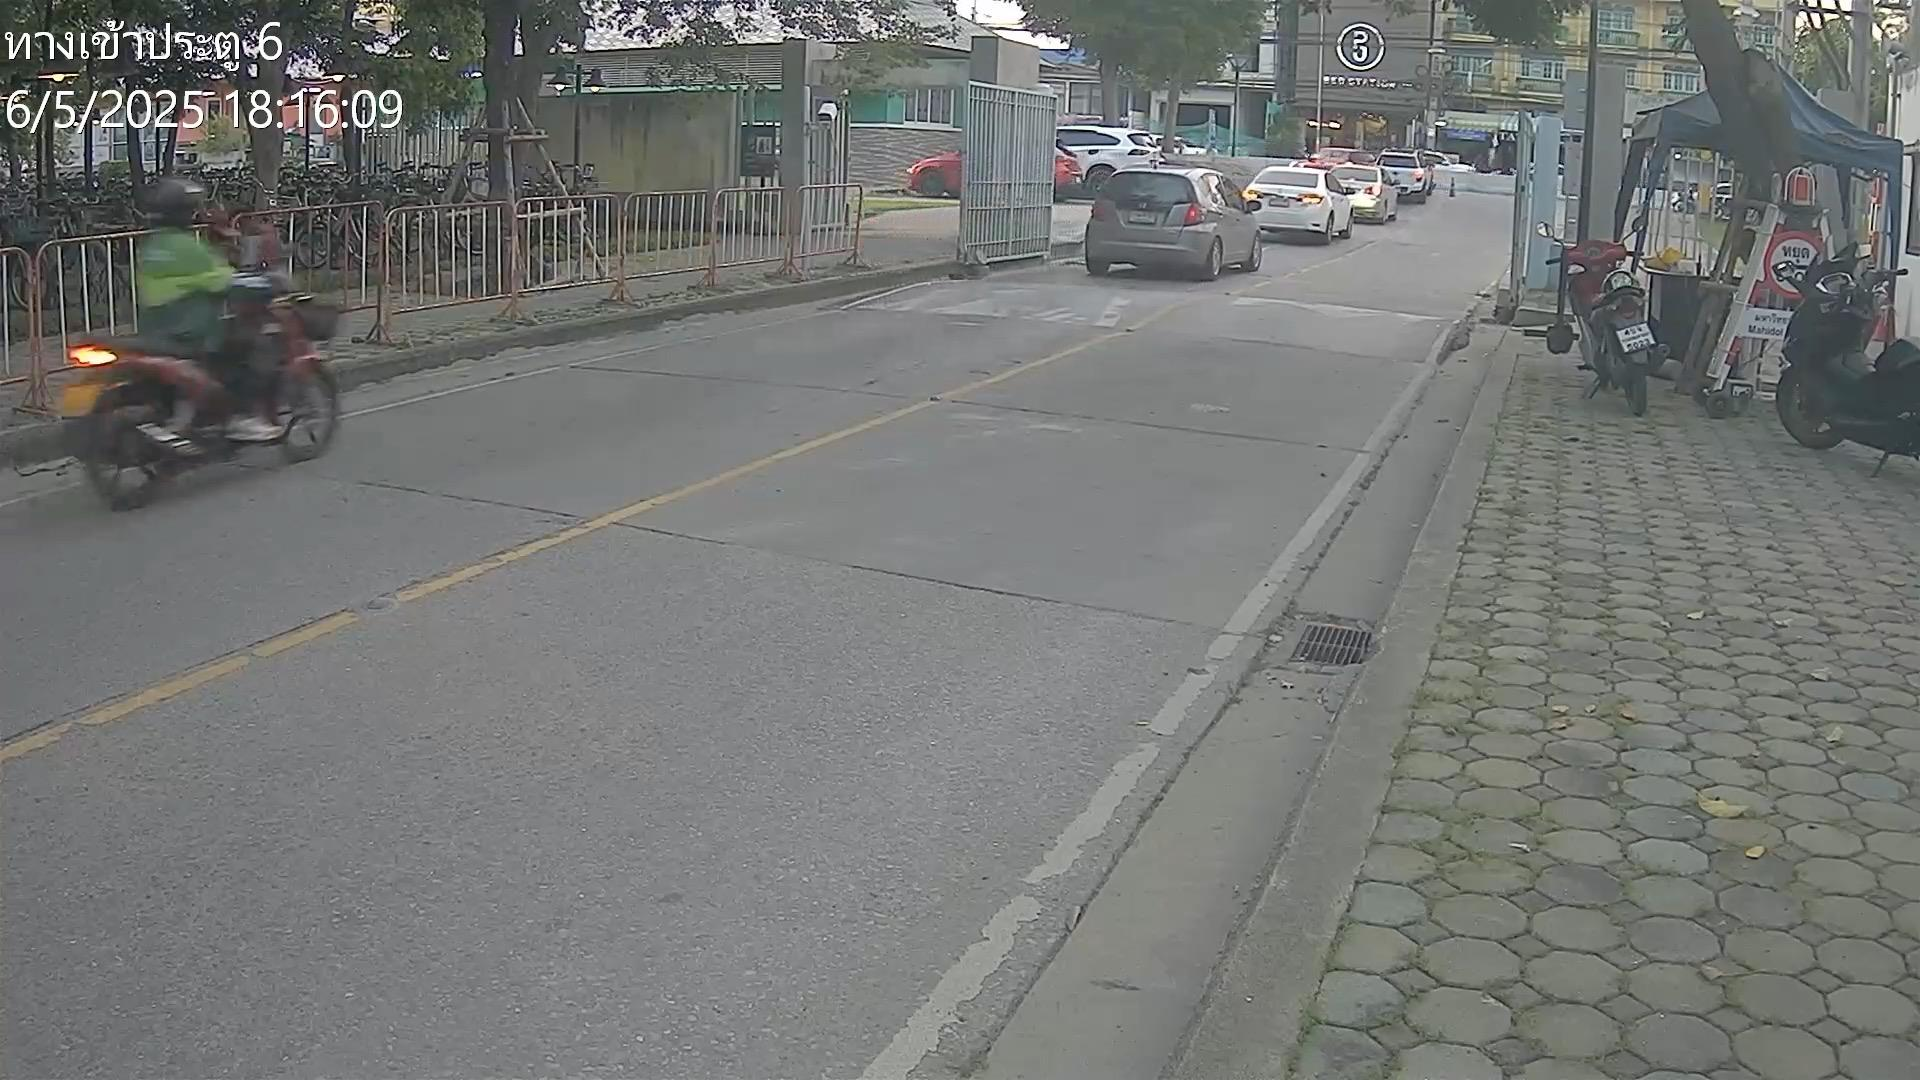With-Helmet: (146, 178, 204, 228)
